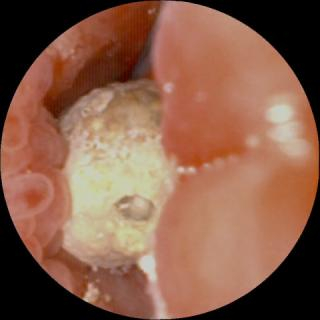stone: (62, 80, 176, 270)
tissue: (6, 3, 314, 312)
